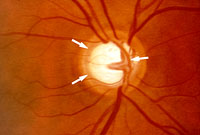Glaucoma section-1: (94, 51, 121, 77)
Glaucoma section-2: (76, 30, 148, 95)
